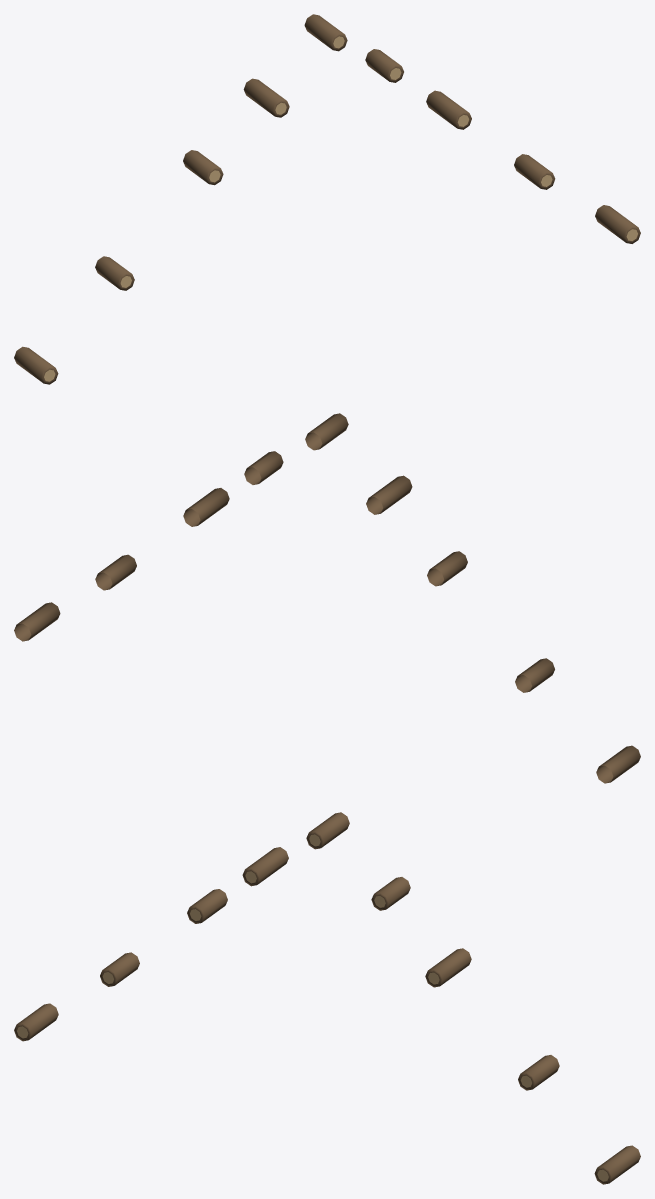
Rendered from rpgpp_ag_roof_support_01_9x4x3_end_01.fbx.
3 views of the same model, one above another, from view 1: azimuth 30°, elevation 25°; view 2: azimuth 150°, elevation 25°; view 3: azimuth 330°, elevation 25° (orthographic).
Parts seen in each view (by area): view 1: rpgpp_ag_roof_support_01_9x4x3_end_01; view 2: rpgpp_ag_roof_support_01_9x4x3_end_01; view 3: rpgpp_ag_roof_support_01_9x4x3_end_01.
Boxes of the visible parts, x1,y1,x2,y2 form: rpgpp_ag_roof_support_01_9x4x3_end_01: (14,14,640,384); rpgpp_ag_roof_support_01_9x4x3_end_01: (14,413,640,783); rpgpp_ag_roof_support_01_9x4x3_end_01: (14,812,640,1184).
Size of the model in its own units: 8.86 by 3.96 by 0.7417.
